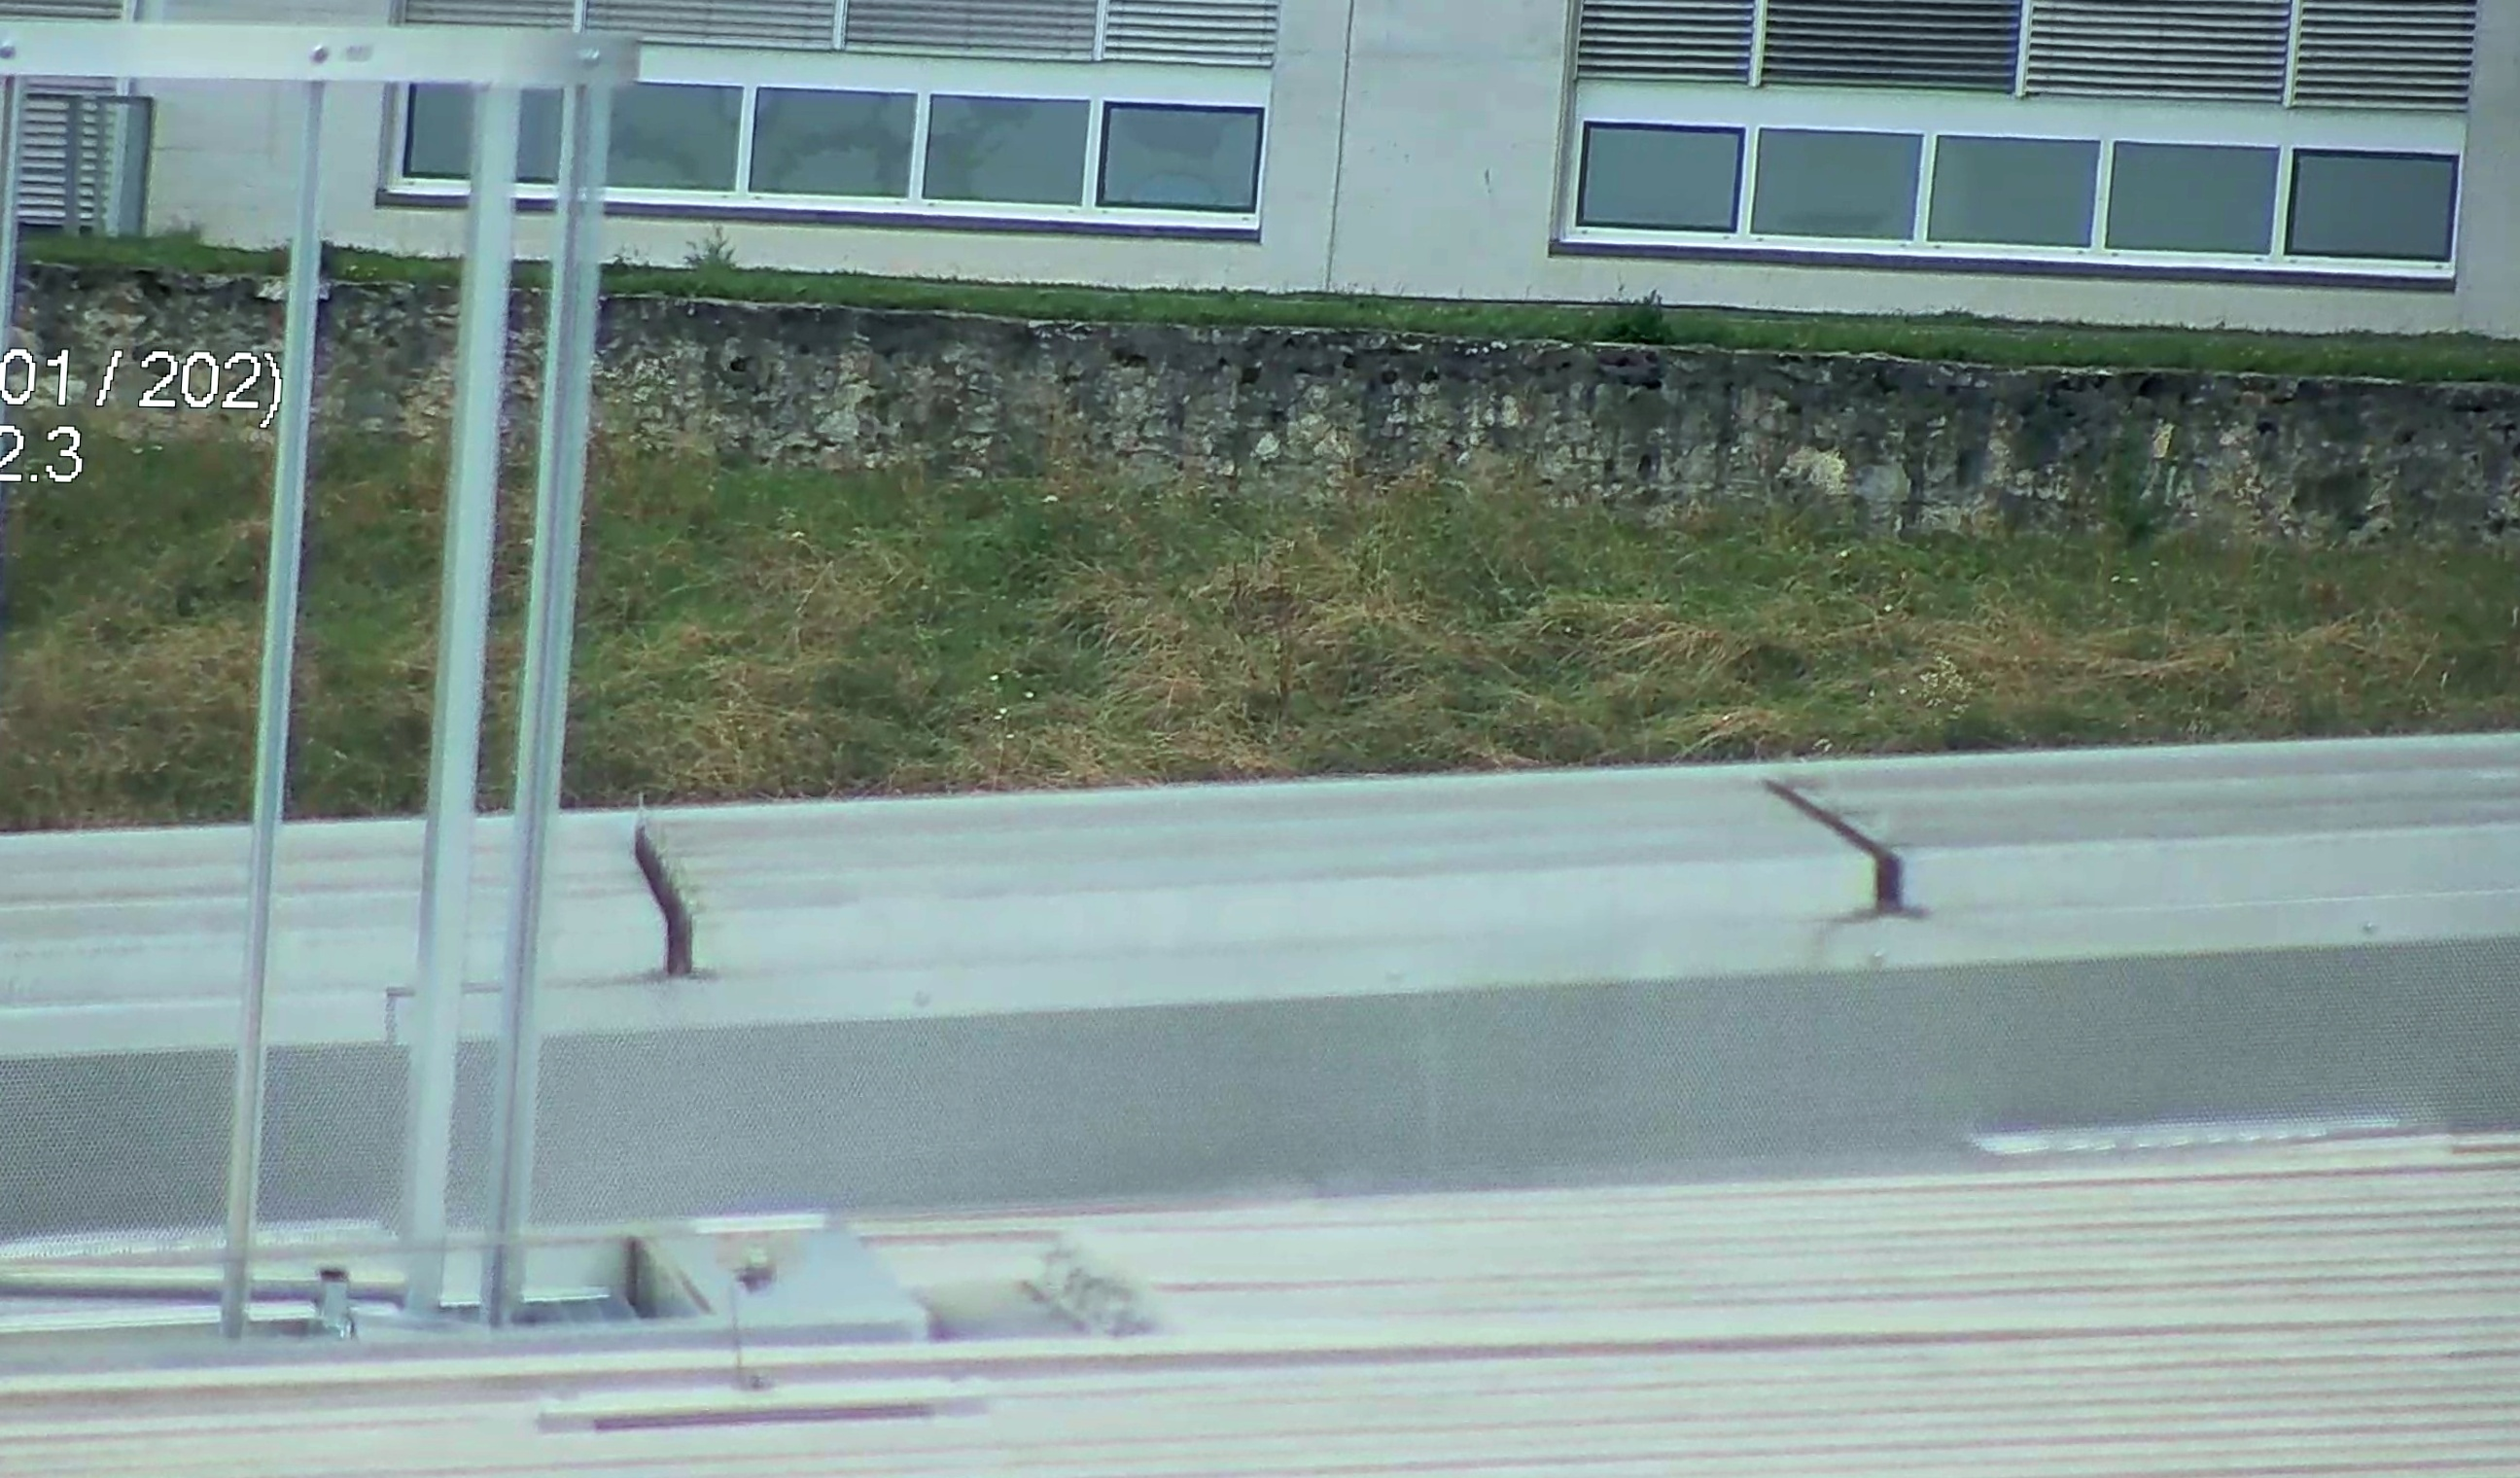Other: (596, 799, 723, 994)
